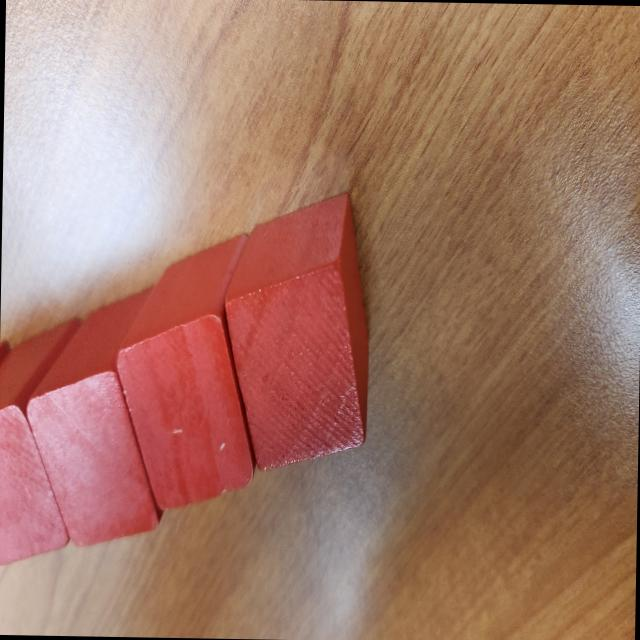red: (220, 190, 376, 478), (112, 232, 258, 512), (23, 282, 164, 548), (0, 317, 84, 566)
